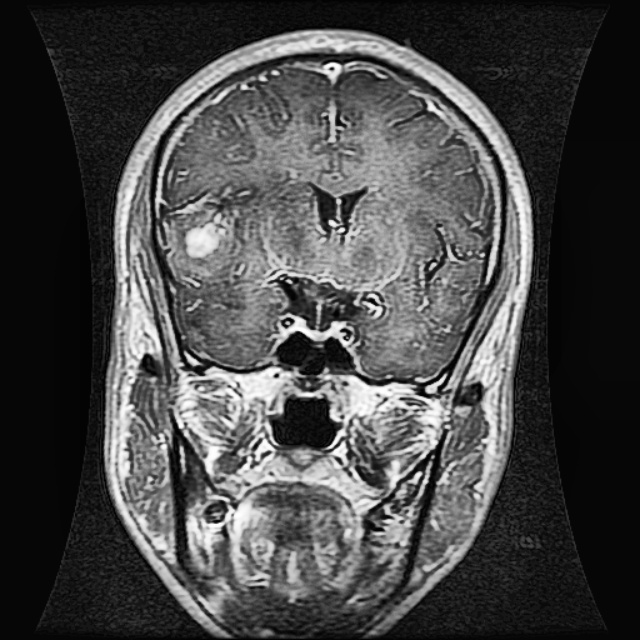Meningioma: (165, 189, 243, 260)
